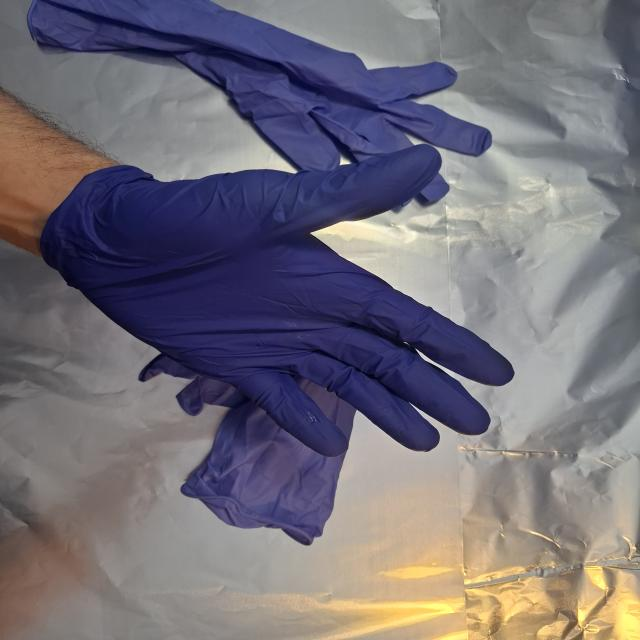glove_on: (38, 141, 520, 460)
